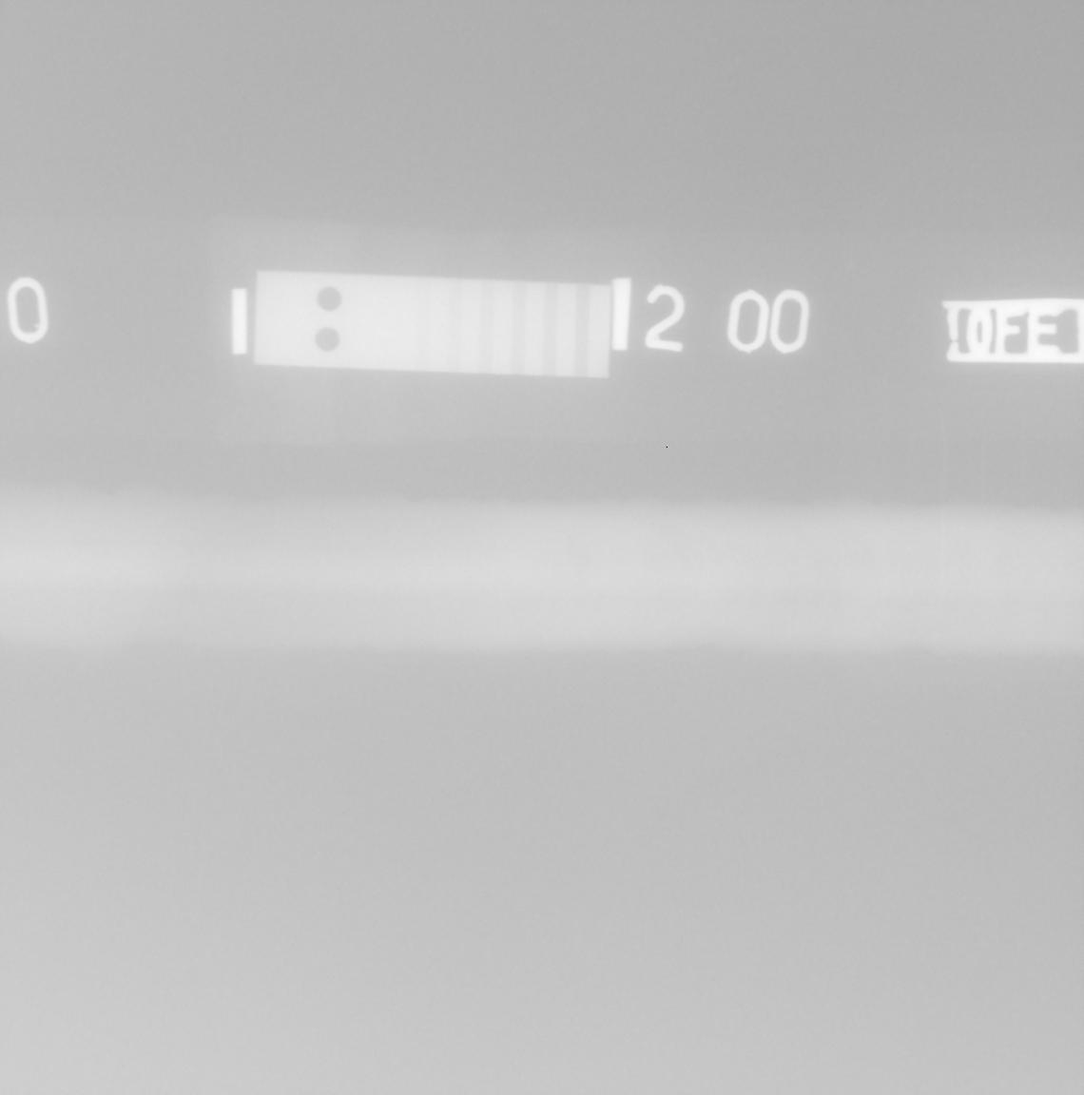Reference Standard 2: (253, 270, 610, 379)
